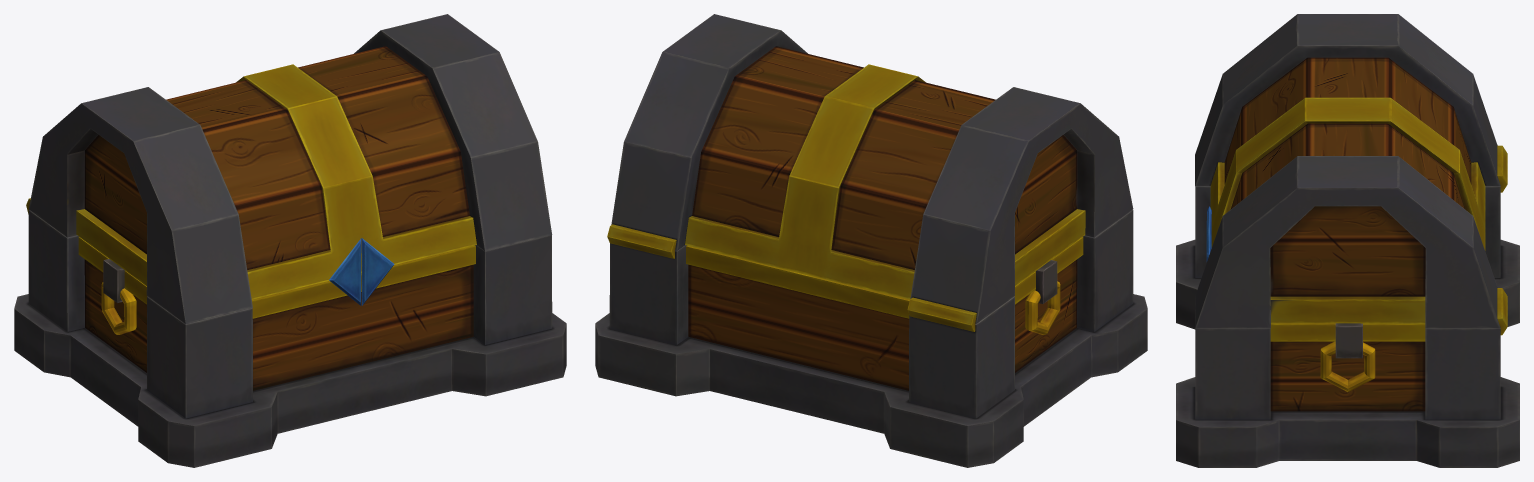
File: Gold Chest.fbx
3 views of the same model, side by side, from view 1: azimuth 30°, elevation 25°; view 2: azimuth 150°, elevation 25°; view 3: azimuth 270°, elevation 25° (orthographic). The views are drawn at different scales.
Visible parts, largest first — view 1: Gold ChestRoof, Gold Chest; view 2: Gold ChestRoof, Gold Chest; view 3: Gold ChestRoof, Gold Chest.
Part boxes in pixels (x1,y1,x2,y2): Gold ChestRoof: (29,14,552,323); Gold Chest: (14,198,566,467); Gold ChestRoof: (611,14,1133,323); Gold Chest: (595,210,1147,467); Gold ChestRoof: (1195,14,1500,328); Gold Chest: (1176,145,1519,467).
Size of the model in its own units: 146 by 98.21 by 112.
